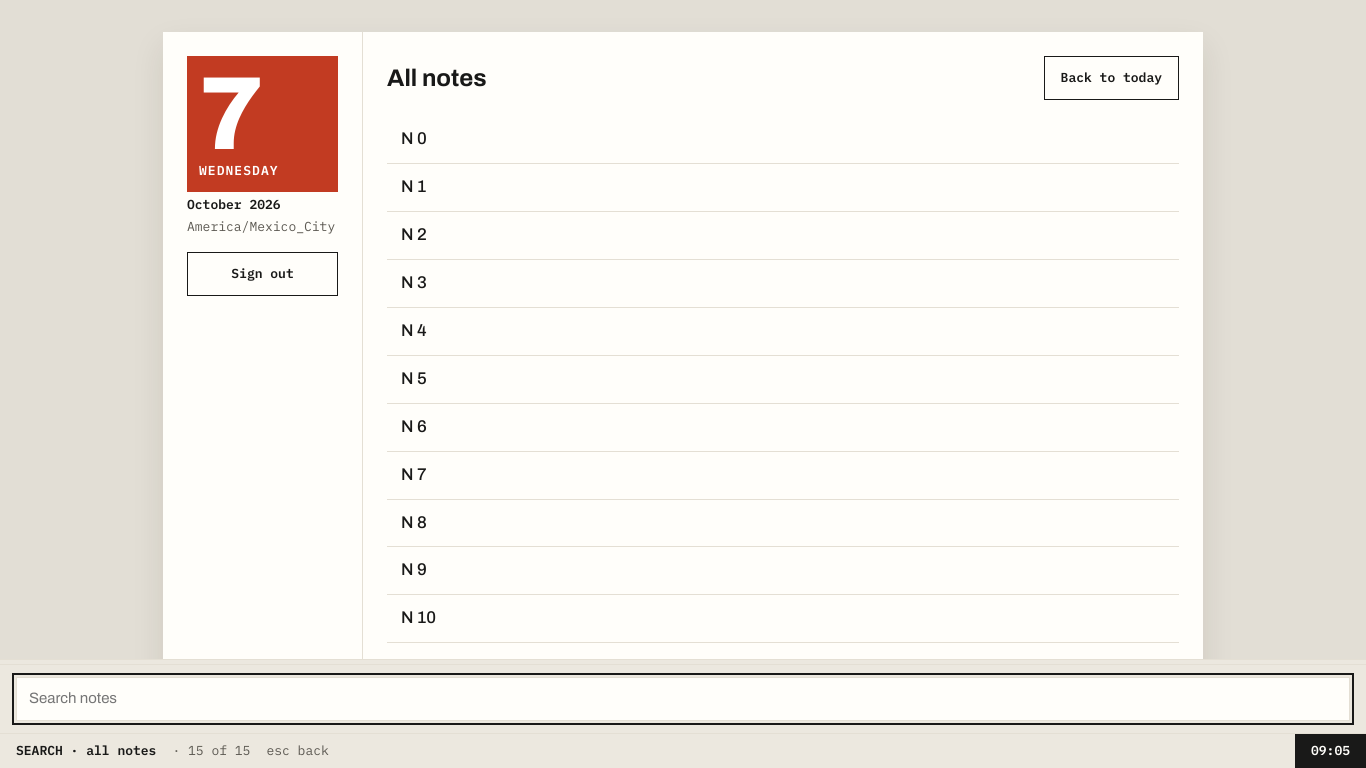
Scenario: reads SEARCH · all notes · 15 of 15 with no term and SEARCH · term · n of 15 with one
expect the footer shows "SEARCH · all notes · 15 of 15": met, box 0,733 -> 1365,767
In the field named "Search your notes": (683, 699) 16,677 -> 1350,721, type "stag"
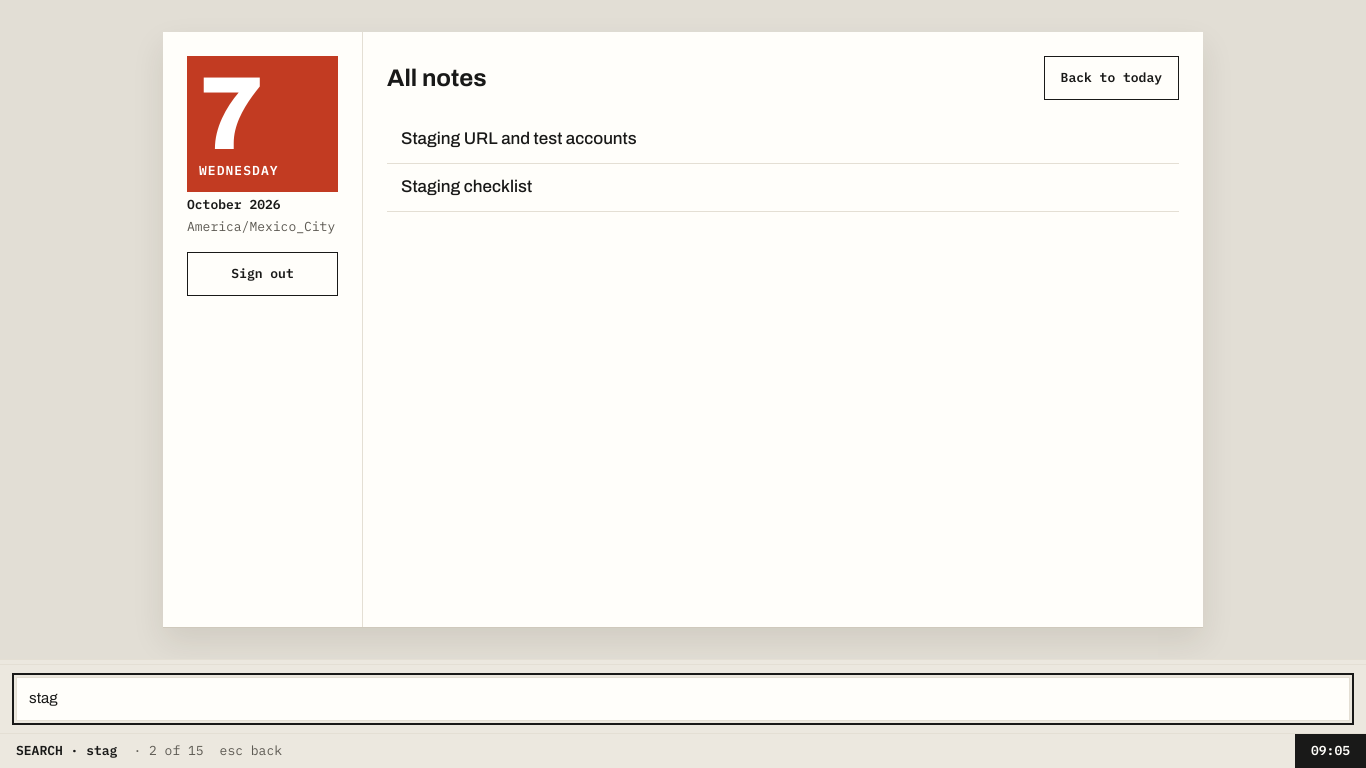
expect the footer shows "SEARCH · stag · 2 of 15": met, box 0,733 -> 1365,767
